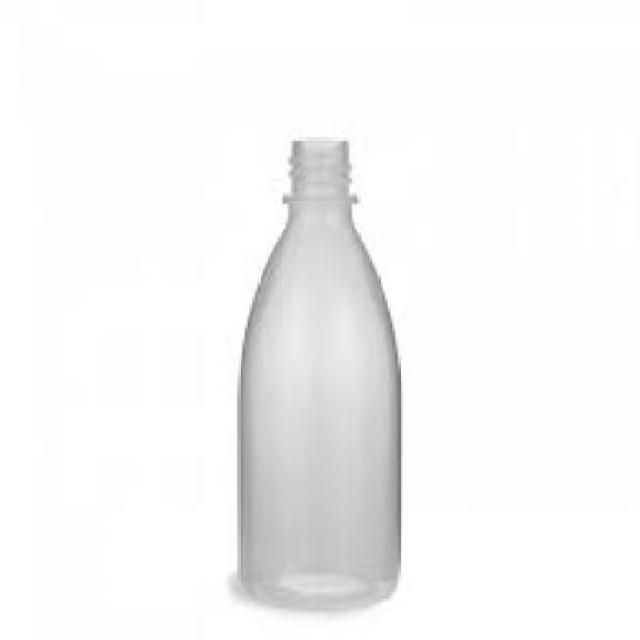kaca: (237, 134, 398, 608)
